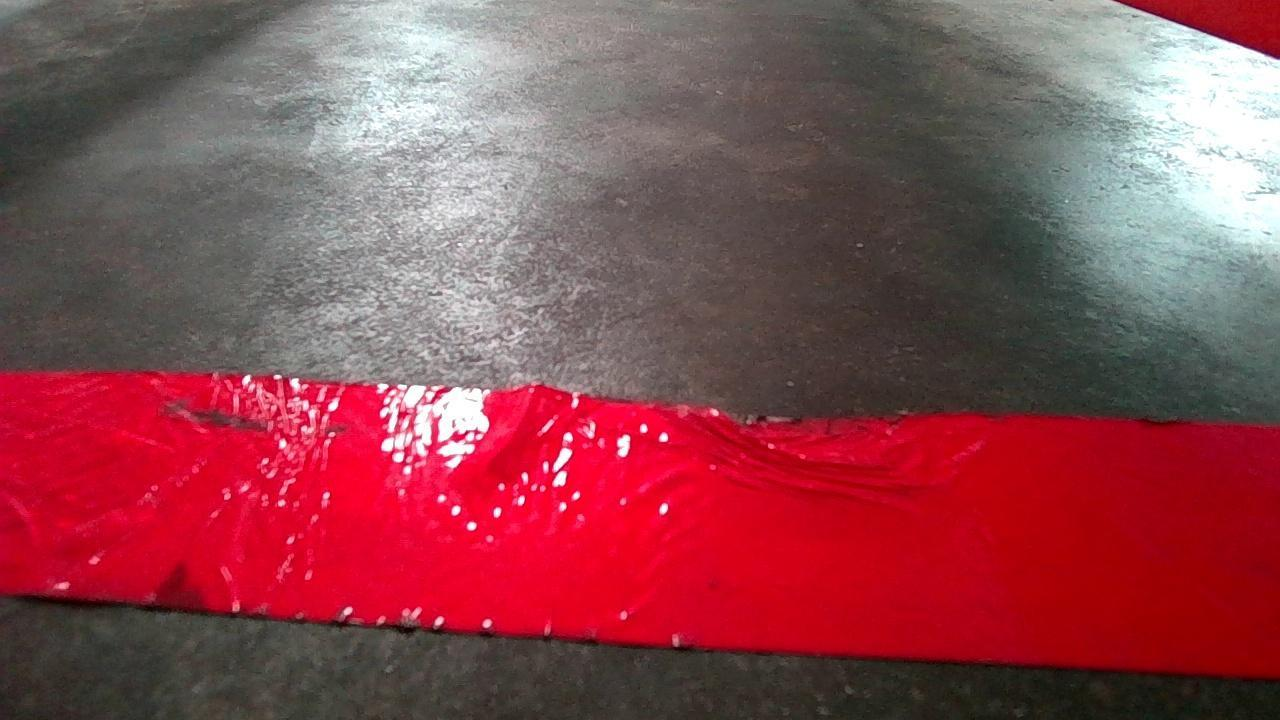red_line: (13, 359, 1244, 684)
